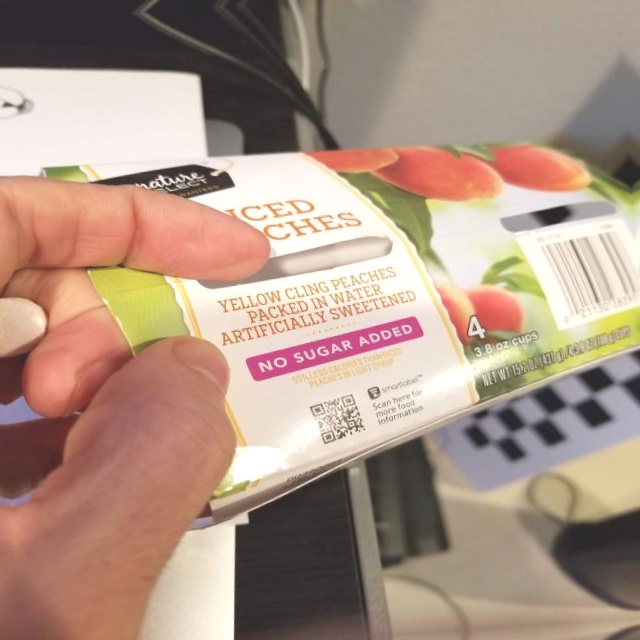qr-code: (296, 382, 376, 453)
